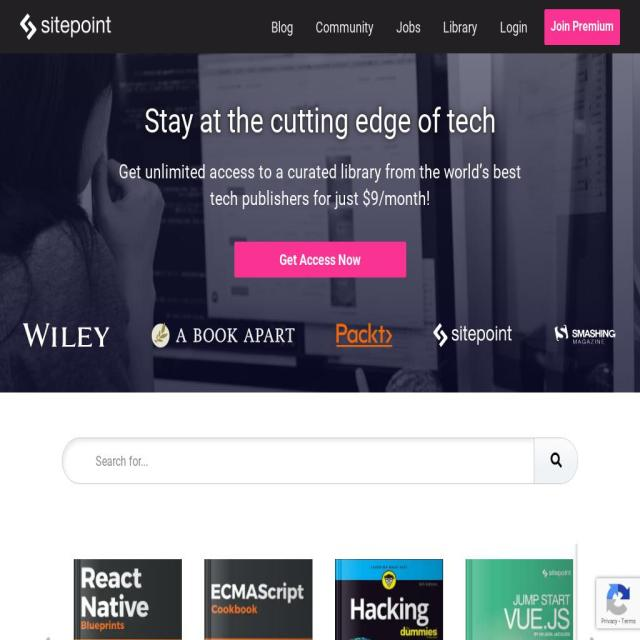button: (334, 559, 444, 640), (465, 559, 574, 640), (74, 559, 182, 640), (205, 559, 312, 640), (234, 242, 406, 278), (595, 559, 640, 640), (544, 8, 620, 45), (20, 13, 111, 40), (316, 17, 374, 36), (443, 17, 478, 36), (500, 17, 528, 36), (396, 17, 421, 36), (271, 17, 293, 36)
field: (84, 438, 534, 484)
heading: (0, 98, 640, 144)
iframe: (596, 578, 640, 628)
image: (334, 559, 444, 640), (465, 559, 574, 640), (74, 559, 182, 640), (205, 559, 312, 640), (150, 322, 296, 348), (595, 559, 640, 640), (20, 13, 111, 40), (22, 322, 110, 348), (432, 322, 512, 348), (552, 322, 618, 348), (336, 322, 392, 348)
text: (108, 158, 532, 212)
